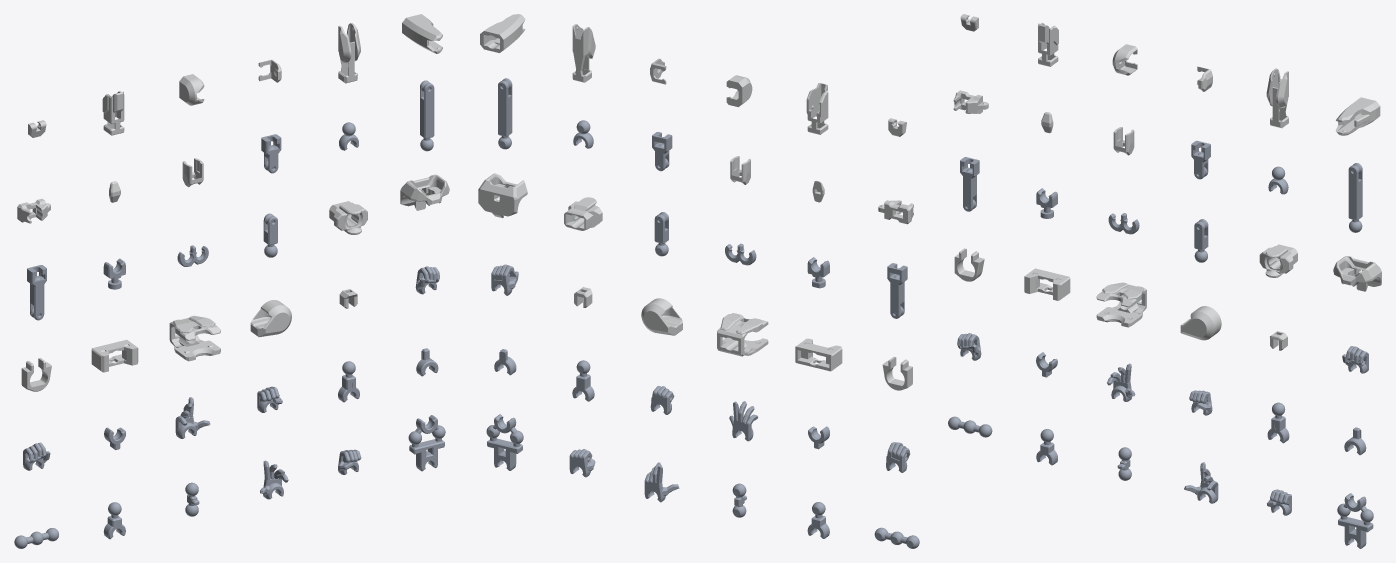
The model's file is dummy13.glb.
3 renders of one model, left to right at view 1: azimuth 30°, elevation 25°; view 2: azimuth 150°, elevation 25°; view 3: azimuth 330°, elevation 25°, orthographic.
Parts seen in each view (by area): view 1: 21_armadura-pecho-superior-v48, 36_marco-pecho-v7, 18_armadura-cintura-v30, 22_cabeza de armadura v12, 05_2x-armadura-espinilla-v41, 20_armadura-pecho-inferior-v25, 06_2x-armadura-muslo-v27, 12_2x-marco-espinilla-v10, 17_armadura-abdomen-v36, 13_2x-marco-muslo-v9, 02_2x-armadura-antebrazo-v30, 34_marco-mano-abierta-izquierda-v5 (+8 smaller); view 2: 21_armadura-pecho-superior-v48, 18_armadura-cintura-v30, 36_marco-pecho-v7, 22_cabeza de armadura v12, 06_2x-armadura-muslo-v27, 05_2x-armadura-espinilla-v41, 20_armadura-pecho-inferior-v25, 12_2x-marco-espinilla-v10, 17_armadura-abdomen-v36, 02_2x-armadura-antebrazo-v30, 13_2x-marco-muslo-v9, 27_Marco mano abierta derecha v5 (+10 smaller); view 3: 21_armadura-pecho-superior-v48, 36_marco-pecho-v7, 18_armadura-cintura-v30, 06_2x-armadura-muslo-v27, 05_2x-armadura-espinilla-v41, 20_armadura-pecho-inferior-v25, 22_cabeza de armadura v12, 17_armadura-abdomen-v36, 12_2x-marco-espinilla-v10, 13_2x-marco-muslo-v9, 02_2x-armadura-antebrazo-v30, 27_Marco mano abierta derecha v5 (+8 smaller).
Boxes of the visible parts, x1=… form: 21_armadura-pecho-superior-v48: x1=169, y1=315, x2=220, y2=361; 36_marco-pecho-v7: x1=408, y1=415, x2=445, y2=471; 18_armadura-cintura-v30: x1=400, y1=174, x2=449, y2=210; 22_cabeza de armadura v12: x1=250, y1=300, x2=291, y2=337; 05_2x-armadura-espinilla-v41: x1=338, y1=23, x2=360, y2=83; 20_armadura-pecho-inferior-v25: x1=91, y1=339, x2=138, y2=372; 06_2x-armadura-muslo-v27: x1=402, y1=14, x2=442, y2=53; 12_2x-marco-espinilla-v10: x1=420, y1=80, x2=434, y2=151; 17_armadura-abdomen-v36: x1=329, y1=201, x2=367, y2=234; 13_2x-marco-muslo-v9: x1=27, y1=265, x2=46, y2=320; 02_2x-armadura-antebrazo-v30: x1=102, y1=91, x2=124, y2=135; 34_marco-mano-abierta-izquierda-v5: x1=260, y1=460, x2=288, y2=499; 21_armadura-pecho-superior-v48: x1=717, y1=313, x2=768, y2=356; 18_armadura-cintura-v30: x1=478, y1=173, x2=527, y2=218; 36_marco-pecho-v7: x1=486, y1=414, x2=523, y2=470; 22_cabeza de armadura v12: x1=641, y1=298, x2=682, y2=335; 06_2x-armadura-muslo-v27: x1=480, y1=14, x2=525, y2=52; 05_2x-armadura-espinilla-v41: x1=572, y1=24, x2=595, y2=82; 20_armadura-pecho-inferior-v25: x1=795, y1=338, x2=842, y2=371; 12_2x-marco-espinilla-v10: x1=498, y1=78, x2=512, y2=149; 17_armadura-abdomen-v36: x1=564, y1=197, x2=602, y2=230; 02_2x-armadura-antebrazo-v30: x1=806, y1=83, x2=828, y2=134; 13_2x-marco-muslo-v9: x1=887, y1=263, x2=907, y2=318; 27_Marco mano abierta derecha v5: x1=729, y1=401, x2=758, y2=441; 21_armadura-pecho-superior-v48: x1=1096, y1=282, x2=1146, y2=327; 36_marco-pecho-v7: x1=1337, y1=493, x2=1373, y2=548; 18_armadura-cintura-v30: x1=1333, y1=256, x2=1381, y2=291; 06_2x-armadura-muslo-v27: x1=1335, y1=97, x2=1380, y2=135; 05_2x-armadura-espinilla-v41: x1=1266, y1=68, x2=1288, y2=128; 20_armadura-pecho-inferior-v25: x1=1024, y1=268, x2=1070, y2=300; 22_cabeza de armadura v12: x1=1180, y1=306, x2=1221, y2=340; 17_armadura-abdomen-v36: x1=1259, y1=244, x2=1297, y2=277; 12_2x-marco-espinilla-v10: x1=1348, y1=163, x2=1362, y2=232; 13_2x-marco-muslo-v9: x1=960, y1=157, x2=979, y2=211; 02_2x-armadura-antebrazo-v30: x1=1038, y1=23, x2=1058, y2=66; 27_Marco mano abierta derecha v5: x1=1107, y1=363, x2=1135, y2=401.
Bounding box in the file's own units: 0.221 × 0.2252 × 0.024.
